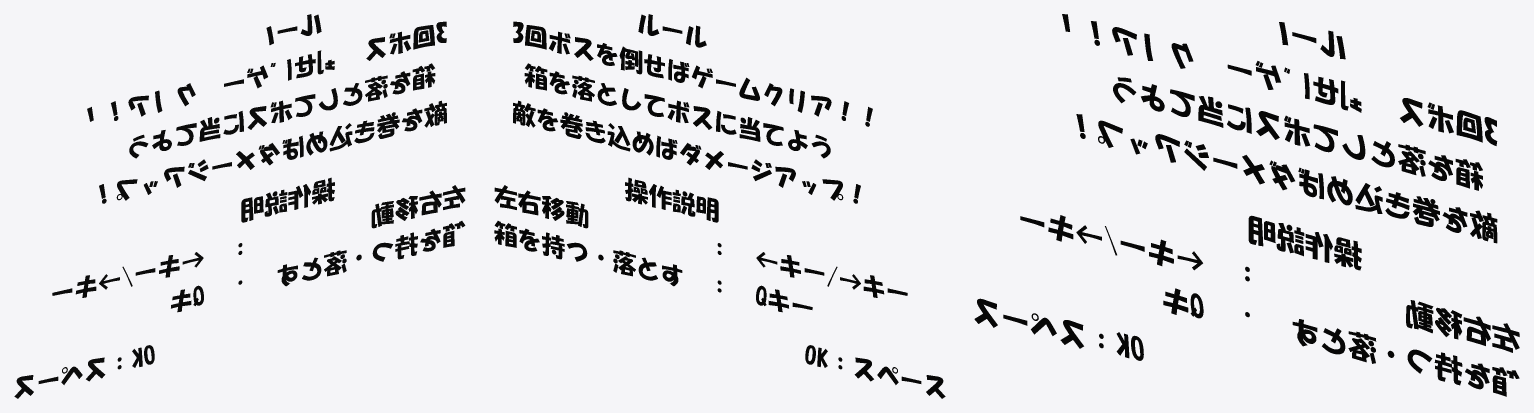
Rendered from ruleText.obj.
3 views of the same model, side by side, from view 1: azimuth 30°, elevation 25°; view 2: azimuth 150°, elevation 25°; view 3: azimuth 330°, elevation 25° (orthographic). The views are drawn at different scales.
Parts seen in each view (by area): view 1: テキスト, テキスト.001, テキスト.002; view 2: テキスト, テキスト.001, テキスト.002; view 3: テキスト, テキスト.001, テキスト.002.
Part boxes in pixels (box(x1,y1,x2,y2)): テキスト: box(87, 14, 446, 203); テキスト.001: box(52, 177, 465, 312); テキスト.002: box(14, 345, 154, 398); テキスト: box(513, 14, 872, 203); テキスト.001: box(494, 177, 907, 312); テキスト.002: box(805, 345, 945, 398); テキスト: box(1062, 14, 1497, 243); テキスト.001: box(1020, 215, 1519, 396); テキスト.002: box(974, 298, 1143, 360).
Size of the model in its own units: 56.76 by 37.69 by 2e-06.
3 materials, 3 textured.
